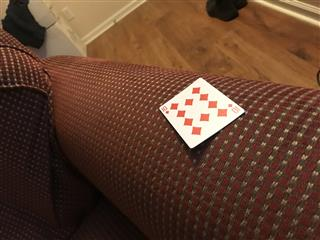TenOfDiamonds: (158, 77, 245, 149)
